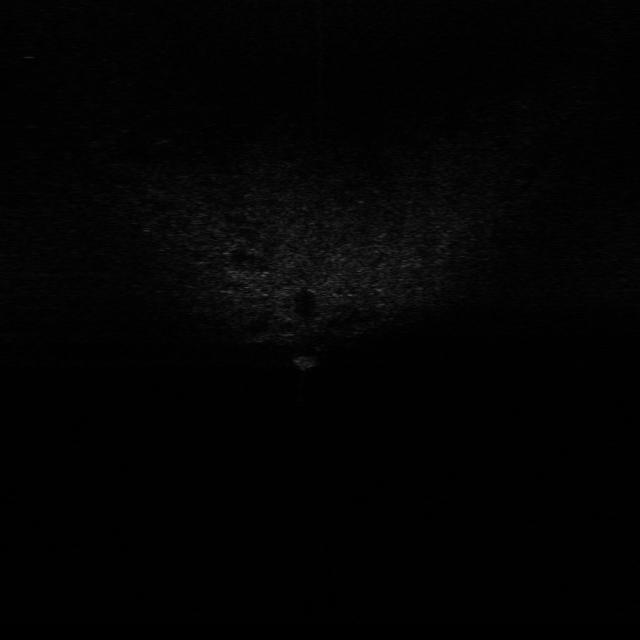cube: (294, 350, 326, 372)
